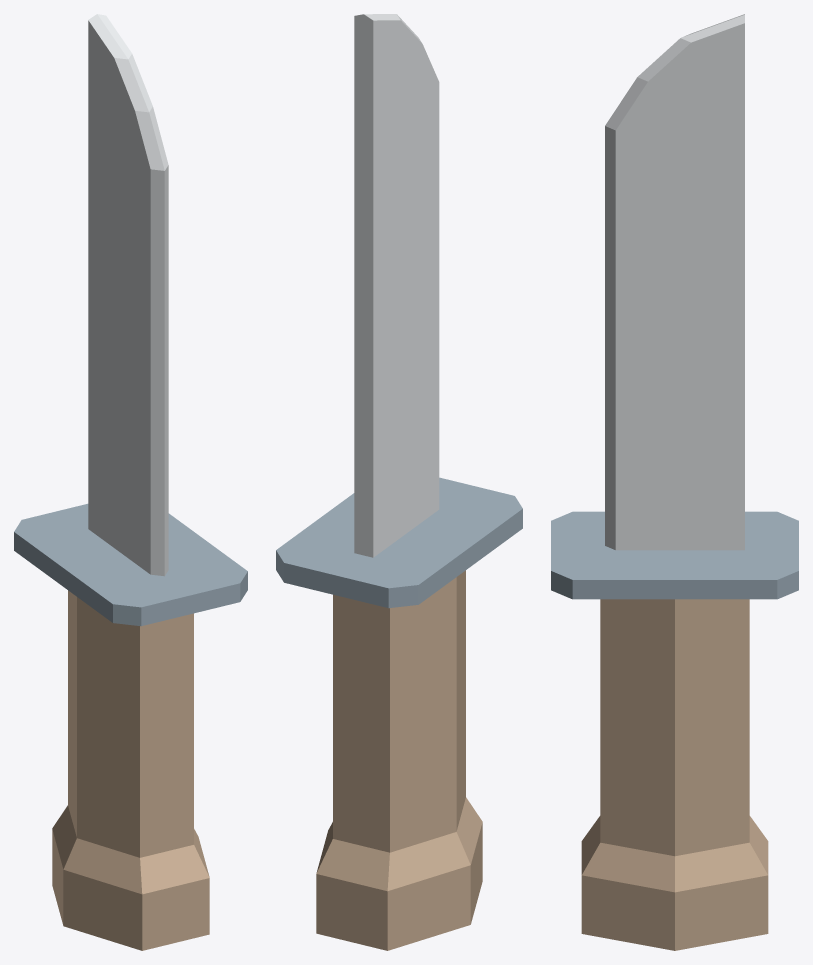
The model's file is weapon-pack--knife-smooth.glb.
3 views of the same model, side by side, from view 1: azimuth 30°, elevation 25°; view 2: azimuth 150°, elevation 25°; view 3: azimuth 270°, elevation 25° (orthographic). The views are drawn at different scales.
Visible parts, largest first — view 1: knife_smooth; view 2: knife_smooth; view 3: knife_smooth.
Part boxes in pixels (x1,y1,x2,y2): knife_smooth: (14,14,247,950); knife_smooth: (276,14,522,950); knife_smooth: (551,14,798,950).
Size of the model in its own units: 0.0574 by 0.3537 by 0.088.
